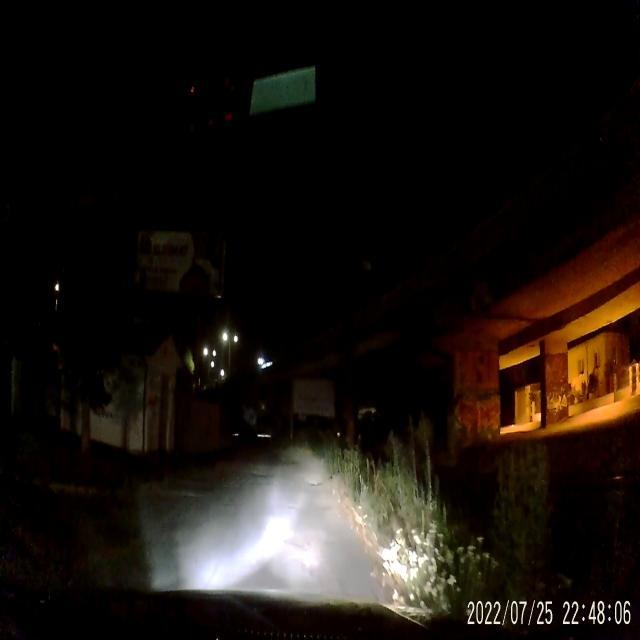Pothole: (248, 468, 272, 482), (306, 476, 326, 488)
